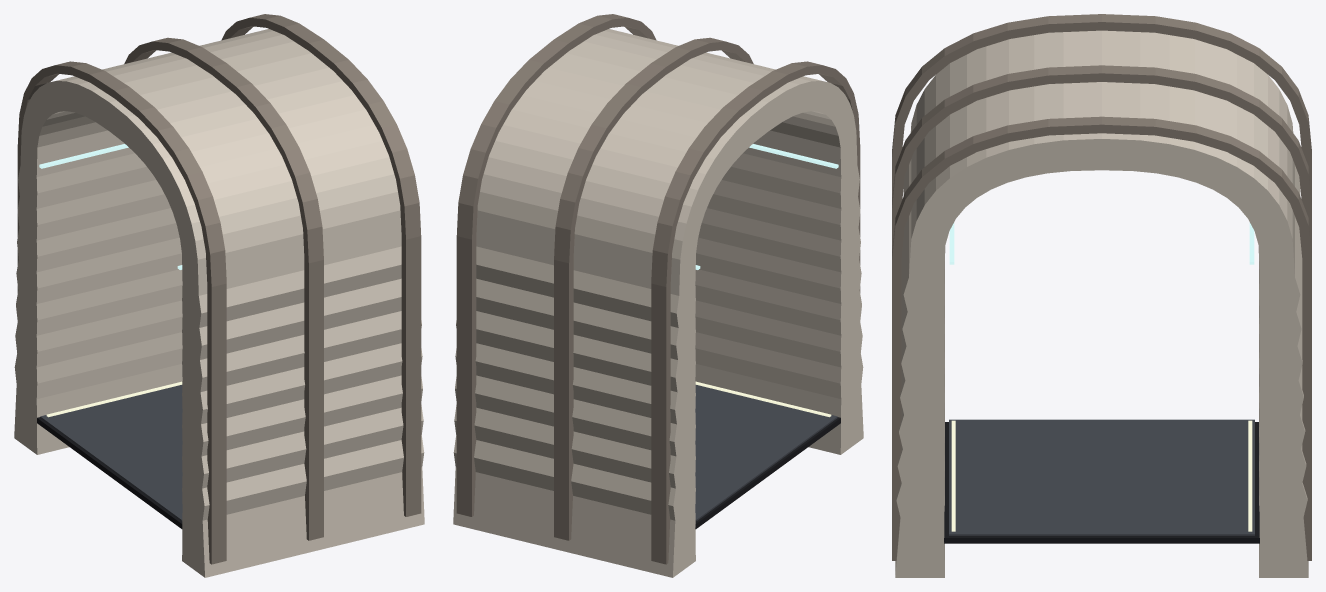
File: Tunnel4.fbx
The picture shows the model from 3 angles, left to right: view 1: azimuth 30°, elevation 25°; view 2: azimuth 150°, elevation 25°; view 3: azimuth 270°, elevation 25°; orthographic projection. The views are drawn at different scales.
Parts seen in each view (by area): view 1: Tunnel4 solid, Tunnel4 trim; view 2: Tunnel4 solid, Tunnel4 trim; view 3: Tunnel4 solid, Tunnel4 trim.
Boxes of the visible parts, <box> form: Tunnel4 solid: <box>14,29,424,577</box>; Tunnel4 trim: <box>17,14,421,564</box>; Tunnel4 solid: <box>453,29,863,577</box>; Tunnel4 trim: <box>456,14,860,564</box>; Tunnel4 solid: <box>895,30,1308,577</box>; Tunnel4 trim: <box>892,14,1311,560</box>.
Bounding box in the file's own units: 1.74 × 3.15 × 2.66.
